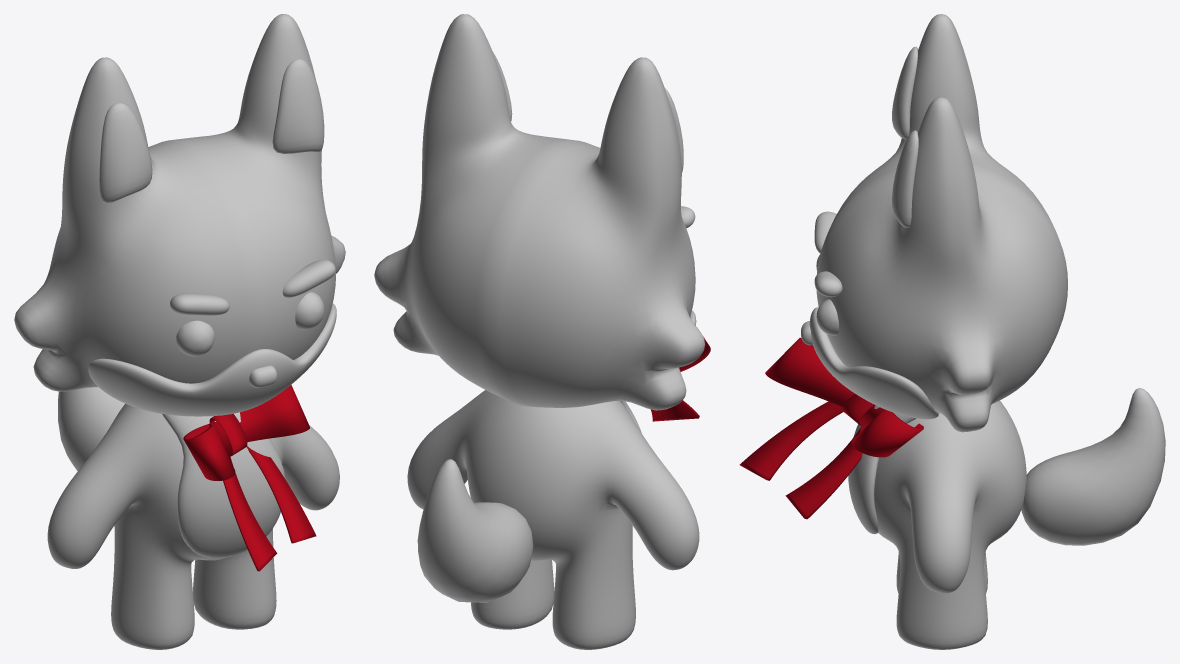
File: unpaintedWolfBow.fbx
The picture shows the model from 3 angles, left to right: view 1: azimuth 30°, elevation 25°; view 2: azimuth 150°, elevation 25°; view 3: azimuth 270°, elevation 25°; orthographic projection. The views are drawn at different scales.
Visible parts, largest first — view 1: unpaintedwolfbow, Bow.004; view 2: unpaintedwolfbow, Bow.004; view 3: unpaintedwolfbow, Bow.004.
Part boxes in pixels (x1=…): unpaintedwolfbow: x1=14, y1=14, x2=345, y2=649; Bow.004: x1=183, y1=385, x2=316, y2=571; unpaintedwolfbow: x1=374, y1=14, x2=705, y2=649; Bow.004: x1=650, y1=336, x2=710, y2=421; unpaintedwolfbow: x1=801, y1=14, x2=1165, y2=649; Bow.004: x1=739, y1=337, x2=923, y2=519.
Bounding box in the file's own units: 233 × 404 × 278.
